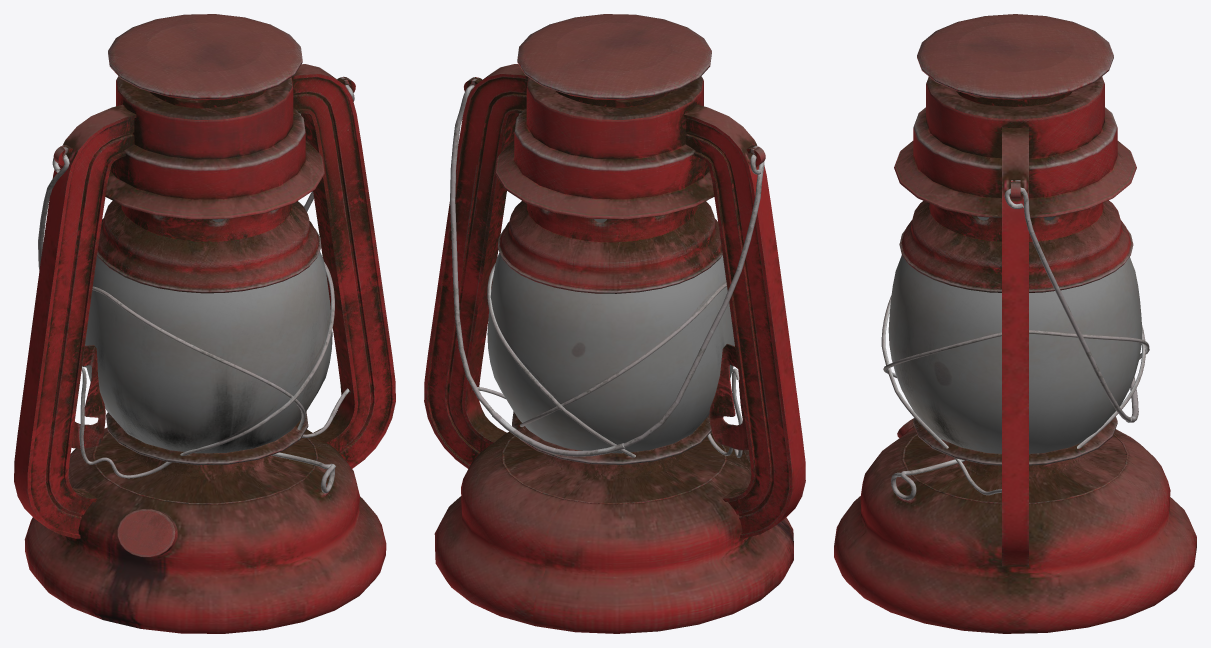
File: lantern.obj
The picture shows the model from 3 angles, left to right: view 1: azimuth 30°, elevation 25°; view 2: azimuth 150°, elevation 25°; view 3: azimuth 270°, elevation 25°; orthographic projection.
Parts seen in each view (by area): view 1: lantern_obj; view 2: lantern_obj; view 3: lantern_obj.
Part boxes in pixels (x1,y1,x2,y2): lantern_obj: (14, 14, 395, 633); lantern_obj: (424, 14, 805, 633); lantern_obj: (834, 14, 1196, 633).
Bounding box in the file's own units: 0.177 × 0.2353 × 0.151.
Materials: 1 (1 with a texture image).
